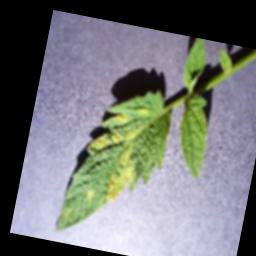Leaf_Mold: (78, 108, 150, 208), (135, 105, 150, 117)
